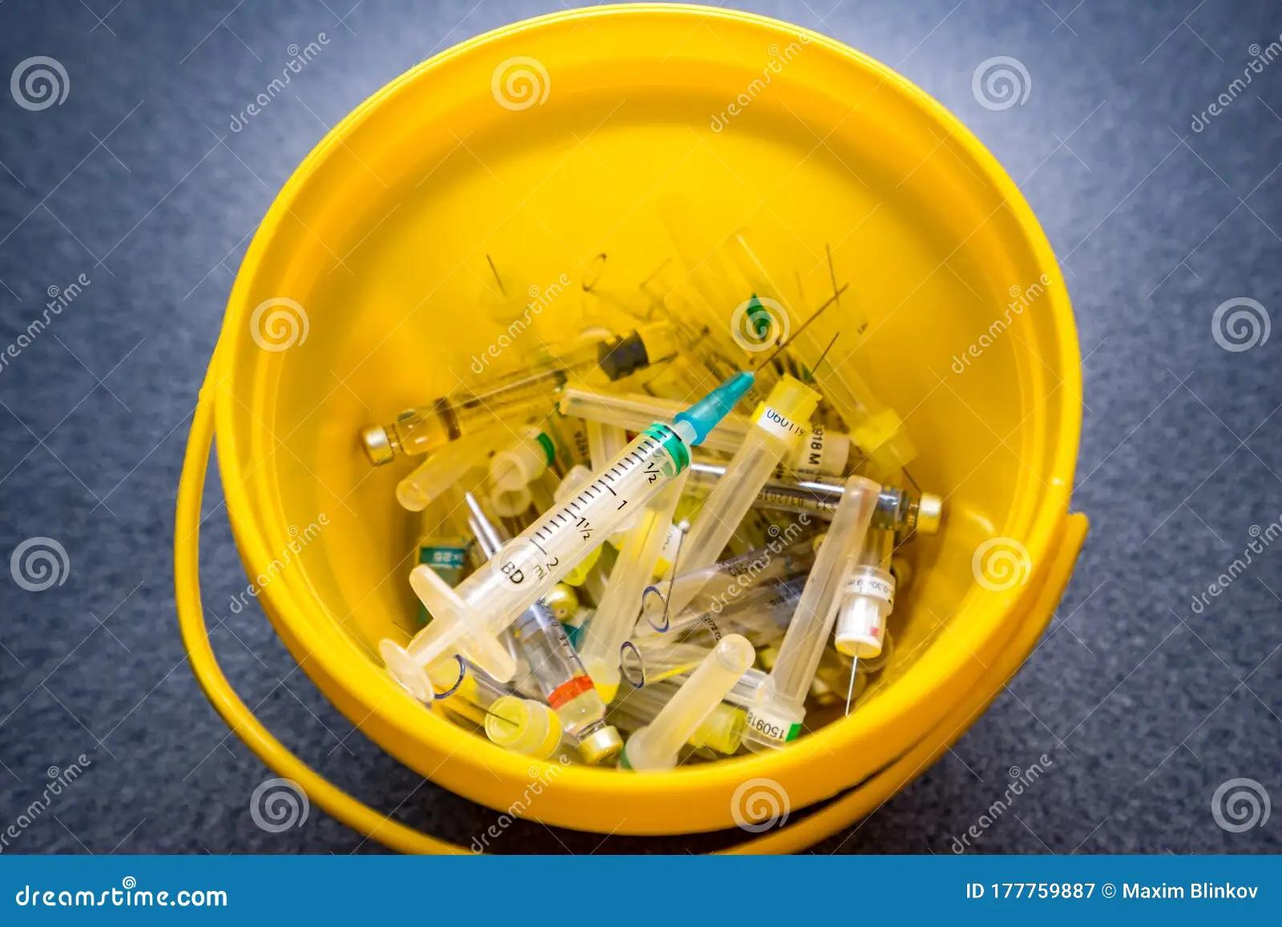Syringe: (380, 374, 752, 691), (361, 323, 675, 465), (747, 478, 879, 747), (683, 375, 819, 570), (579, 473, 686, 702), (510, 599, 622, 764), (620, 635, 754, 771), (638, 539, 813, 631), (431, 659, 561, 758), (631, 575, 804, 646), (396, 425, 511, 510), (834, 527, 895, 659), (559, 385, 680, 429), (484, 695, 564, 759), (621, 637, 716, 688), (489, 427, 555, 491), (753, 478, 842, 518), (608, 680, 679, 730)
